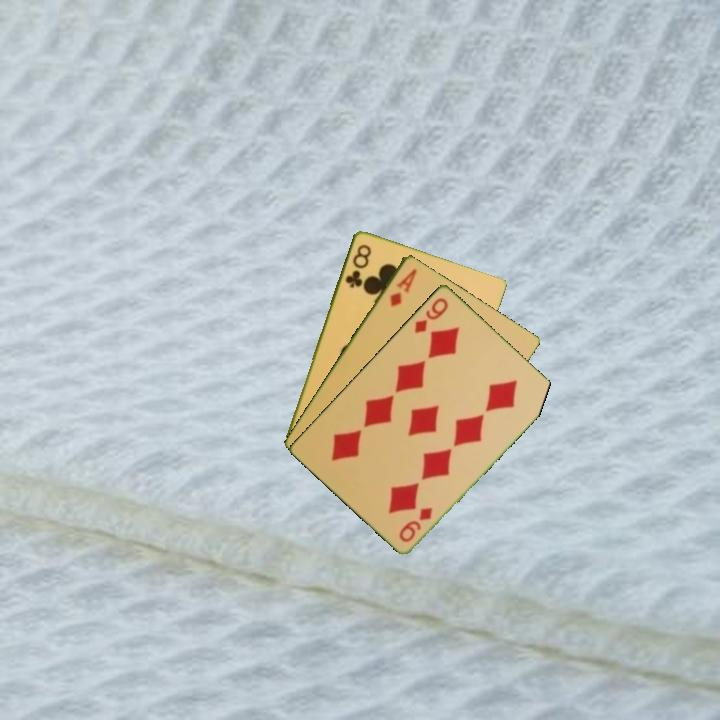8c: (341, 240, 374, 291)
9d: (411, 294, 451, 336), (395, 503, 435, 545)
Ad: (386, 265, 420, 309)
